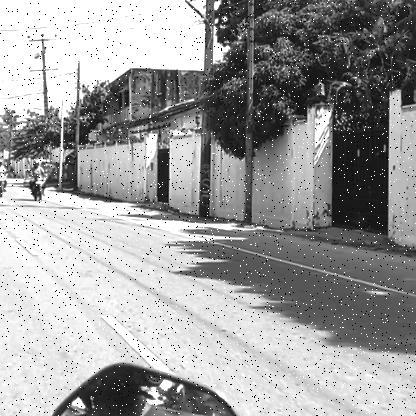motorcycle: (27, 172, 50, 204), (0, 170, 11, 198)
